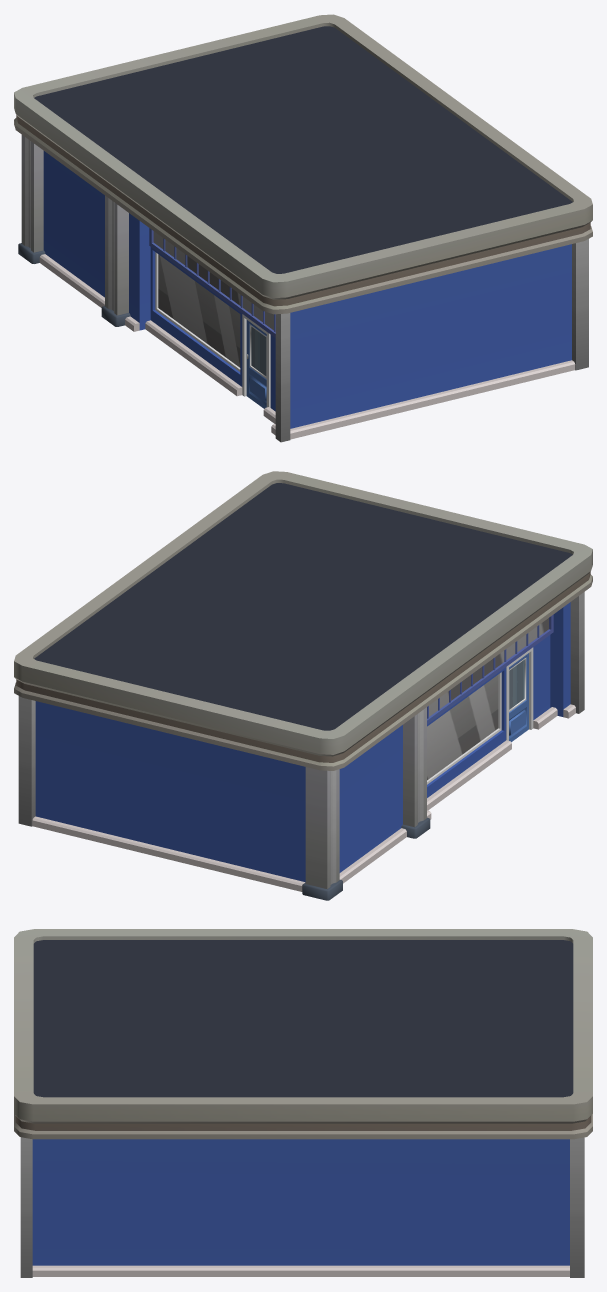
Rendered from Building_11_4_F.fbx.
3 renders of one model, top to bottom at view 1: azimuth 30°, elevation 25°; view 2: azimuth 150°, elevation 25°; view 3: azimuth 270°, elevation 25°, orthographic. The views are drawn at different scales.
Visible parts, largest first — view 1: Building_11_4_F; view 2: Building_11_4_F; view 3: Building_11_4_F.
Part boxes in pixels (bbox=[...]): Building_11_4_F: bbox=[14, 14, 592, 442]; Building_11_4_F: bbox=[14, 471, 592, 900]; Building_11_4_F: bbox=[14, 929, 592, 1277].
Size of the model in its own units: 833 by 393 by 1163.
